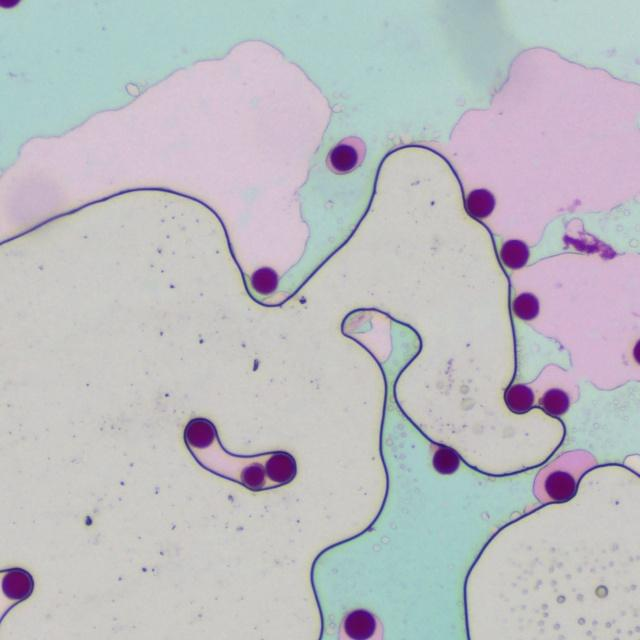viable: (2, 569, 32, 599), (344, 610, 375, 639), (545, 471, 575, 500), (185, 418, 215, 447), (267, 453, 295, 482), (500, 239, 528, 268), (330, 144, 357, 172), (506, 384, 533, 412), (467, 189, 494, 217), (542, 388, 569, 415), (251, 267, 278, 294), (433, 447, 459, 474), (513, 293, 539, 319), (242, 464, 264, 489), (633, 340, 639, 363), (0, 0, 19, 7)
